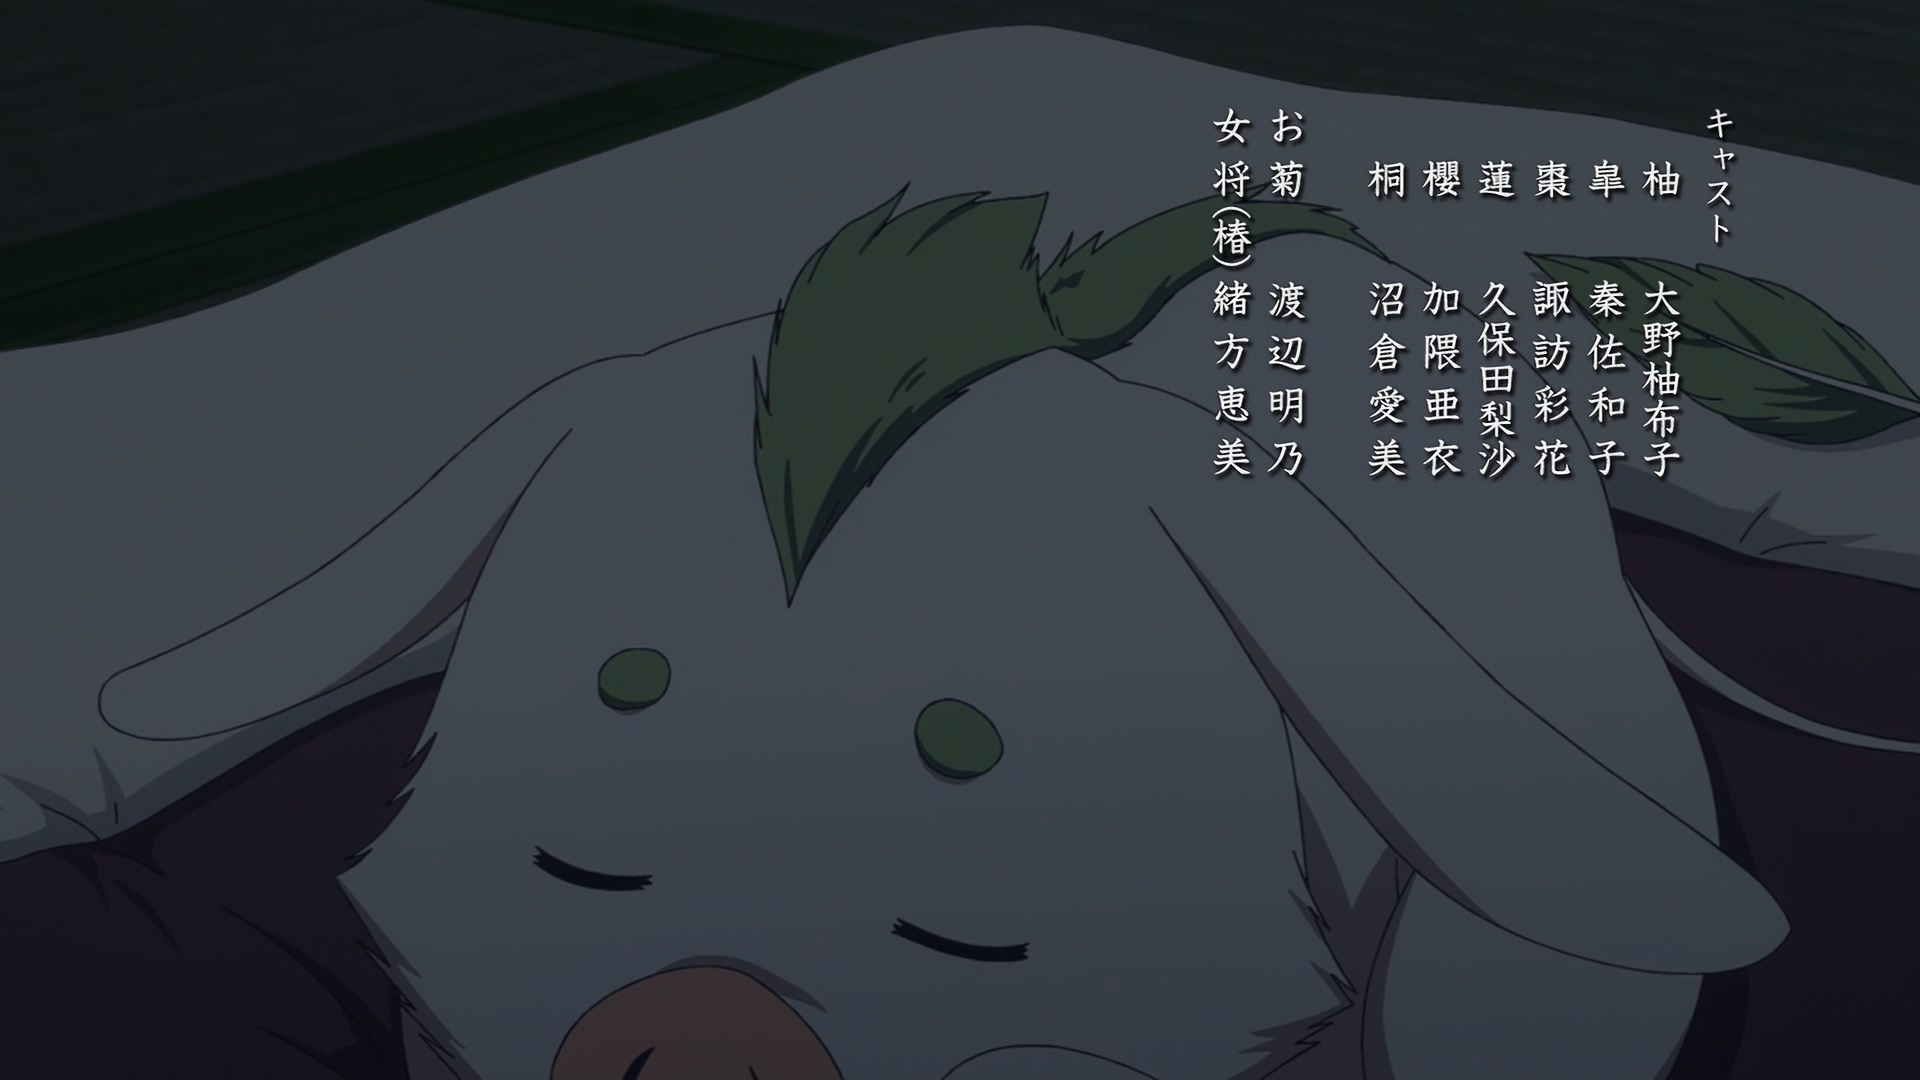瓜之介: (100, 175, 1920, 1080)
